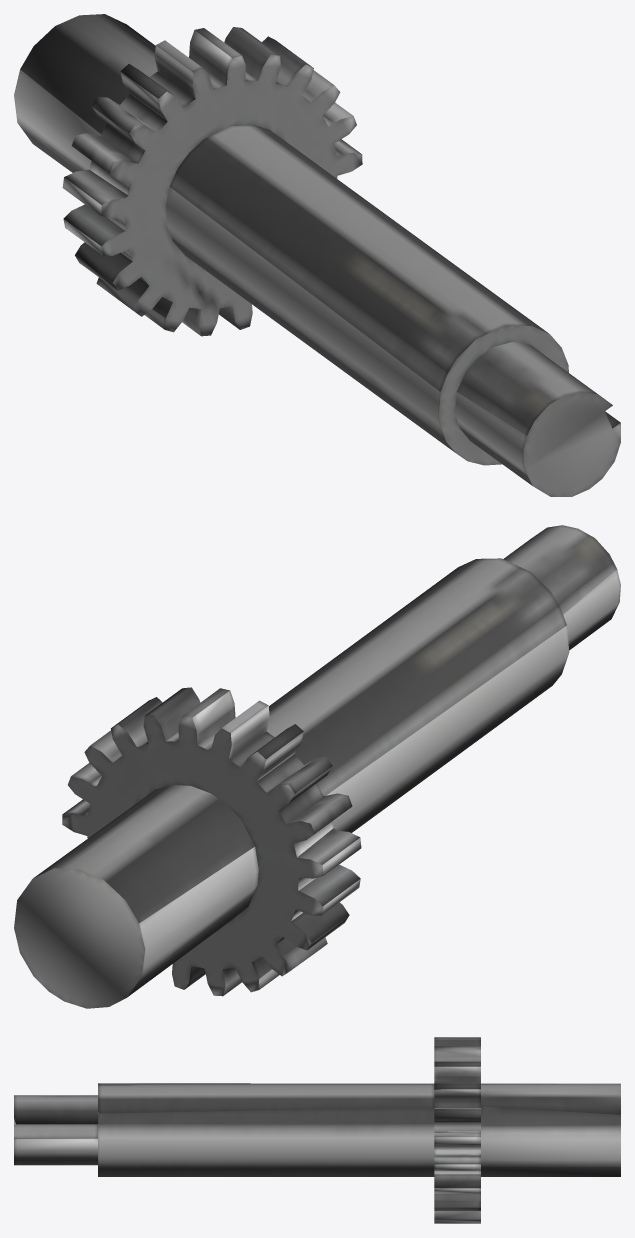
The picture shows the model from 3 angles, top to bottom: view 1: azimuth 30°, elevation 25°; view 2: azimuth 150°, elevation 25°; view 3: azimuth 270°, elevation 25°; orthographic projection. The views are drawn at different scales.
Parts seen in each view (by area): view 1: Piñon.001_Mesh.010; view 2: Piñon.001_Mesh.010; view 3: Piñon.001_Mesh.010.
Boxes of the visible parts, left/top/right/bottom form: Piñon.001_Mesh.010: left=14, top=14, right=620, bottom=496; Piñon.001_Mesh.010: left=14, top=525, right=620, bottom=1008; Piñon.001_Mesh.010: left=14, top=1037, right=620, bottom=1223.
Size of the model in its own units: 0.0521 by 0.0522 by 0.1698.
Materials: 1 (1 with a texture image).
